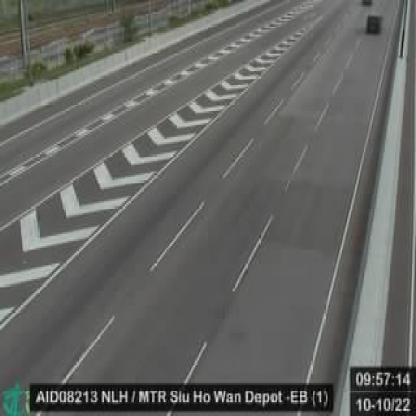Car: (367, 14, 383, 36)
